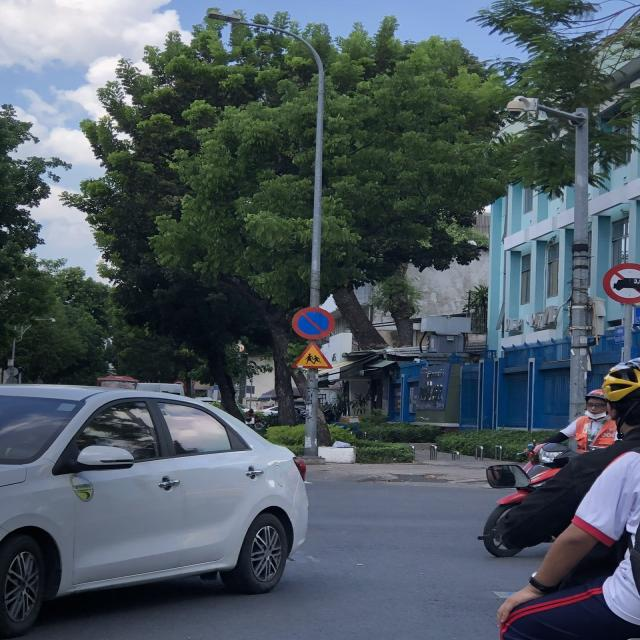Bien bao tre em: (288, 342, 338, 370)
